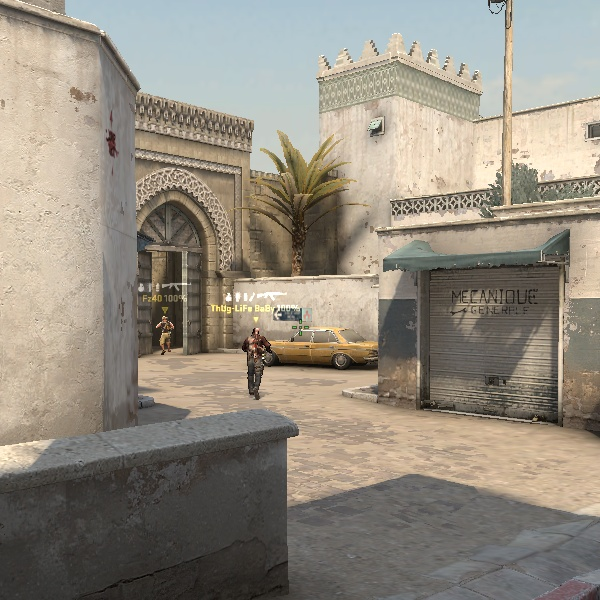t_body: (240, 322, 276, 400), (152, 313, 179, 358)
t_head: (250, 325, 263, 340), (160, 314, 170, 324)
